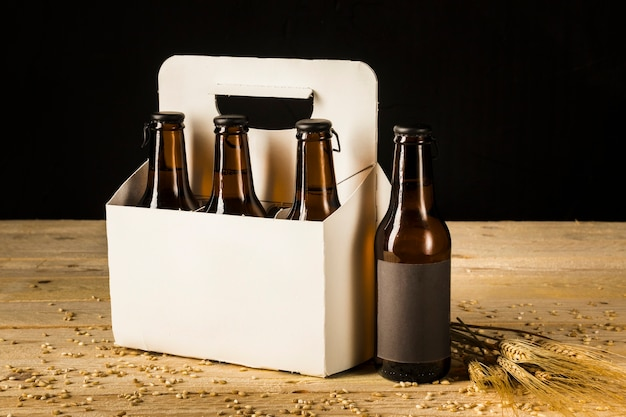alcohol: (375, 123, 452, 380), (283, 119, 352, 221), (207, 114, 271, 216), (139, 109, 201, 210)
